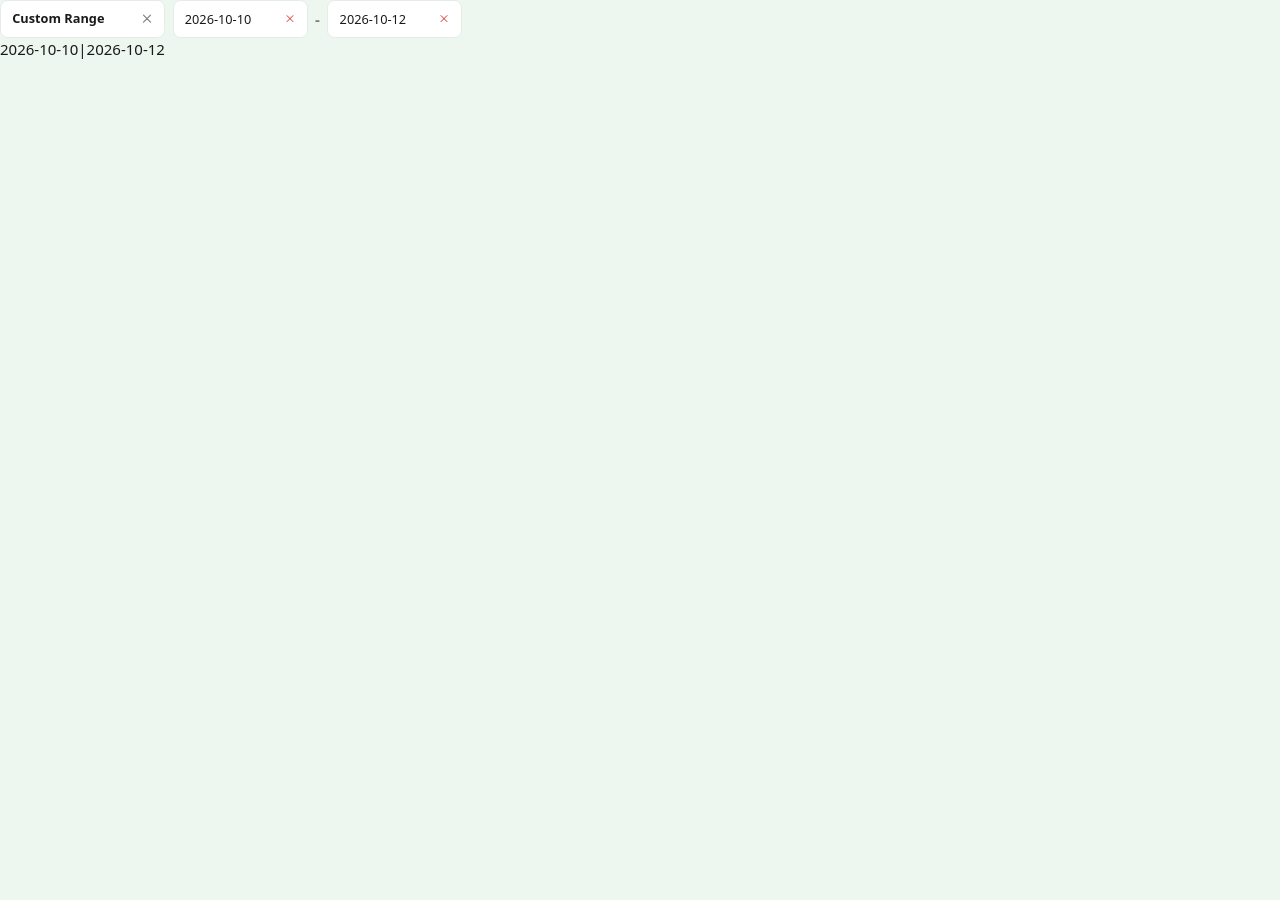
Test: DateRangePicker › shows the range, and greys out days after the last day when changing the first
Click the field named "From date": (240, 19) x1=174 y1=1 x2=306 y2=36
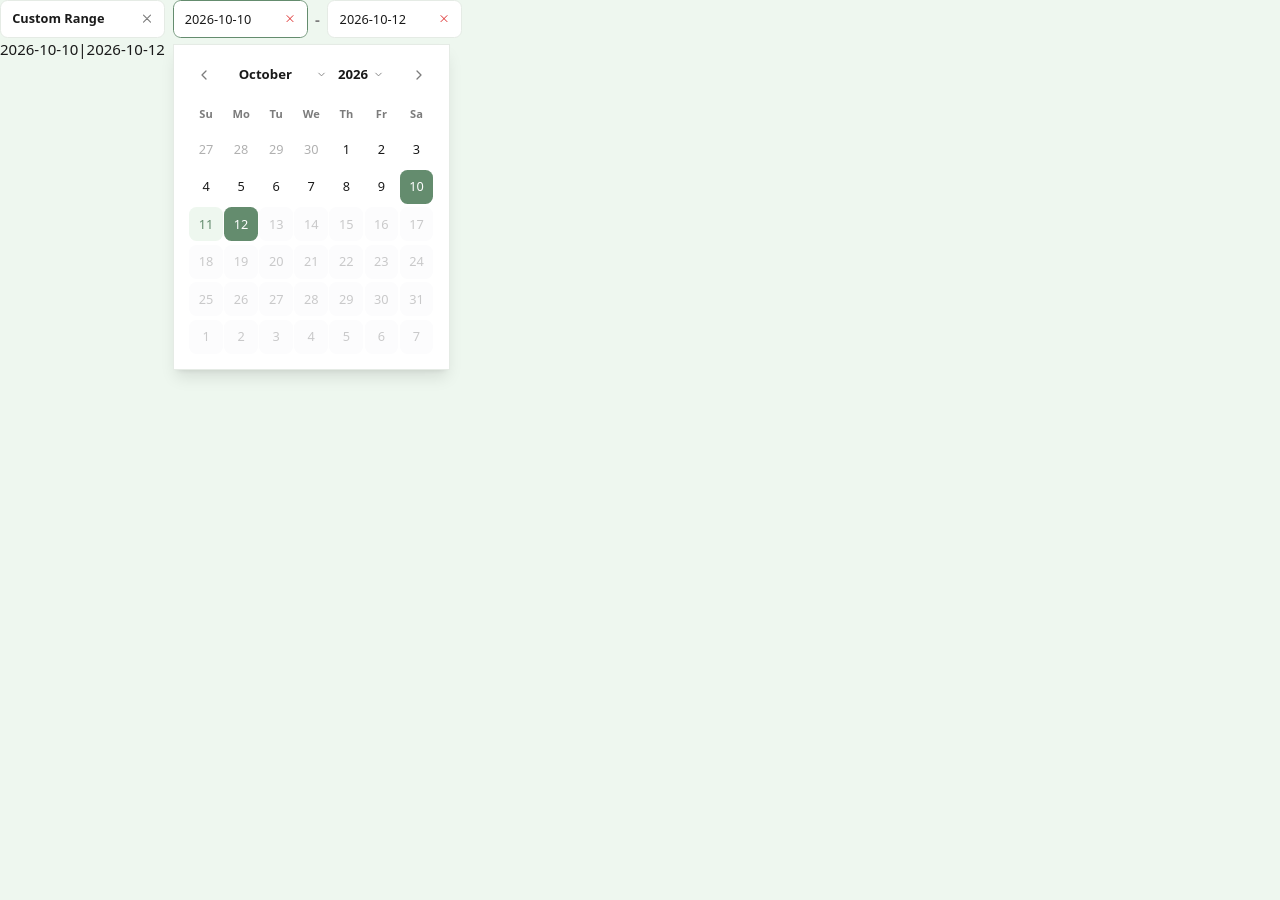
Check: the button named "13 October 2026" is disabled, box x1=259 y1=207 x2=293 y2=241
Click the button named "8 October 2026": (346, 187) x1=329 y1=170 x2=363 y2=204
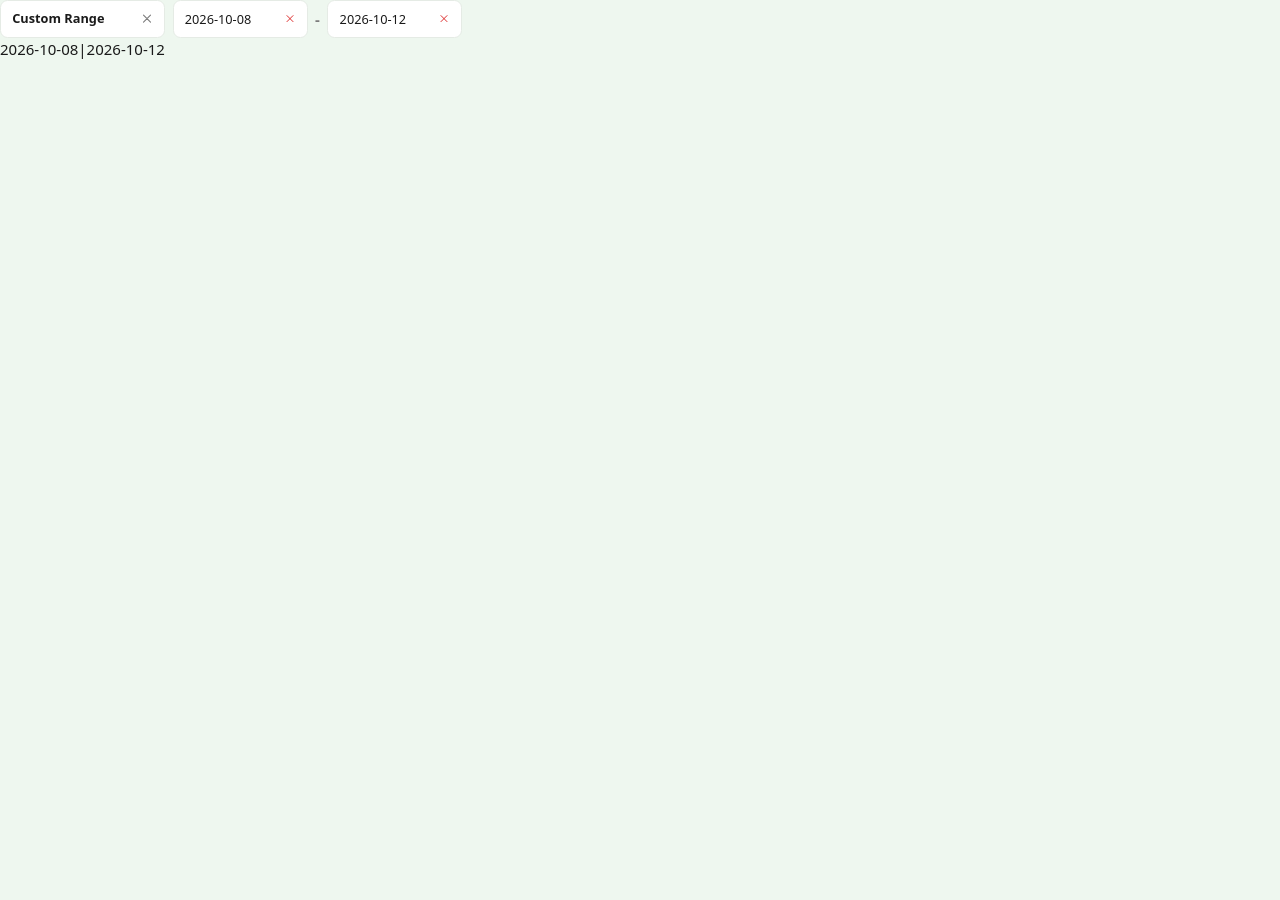
Check: the dialog is gone
